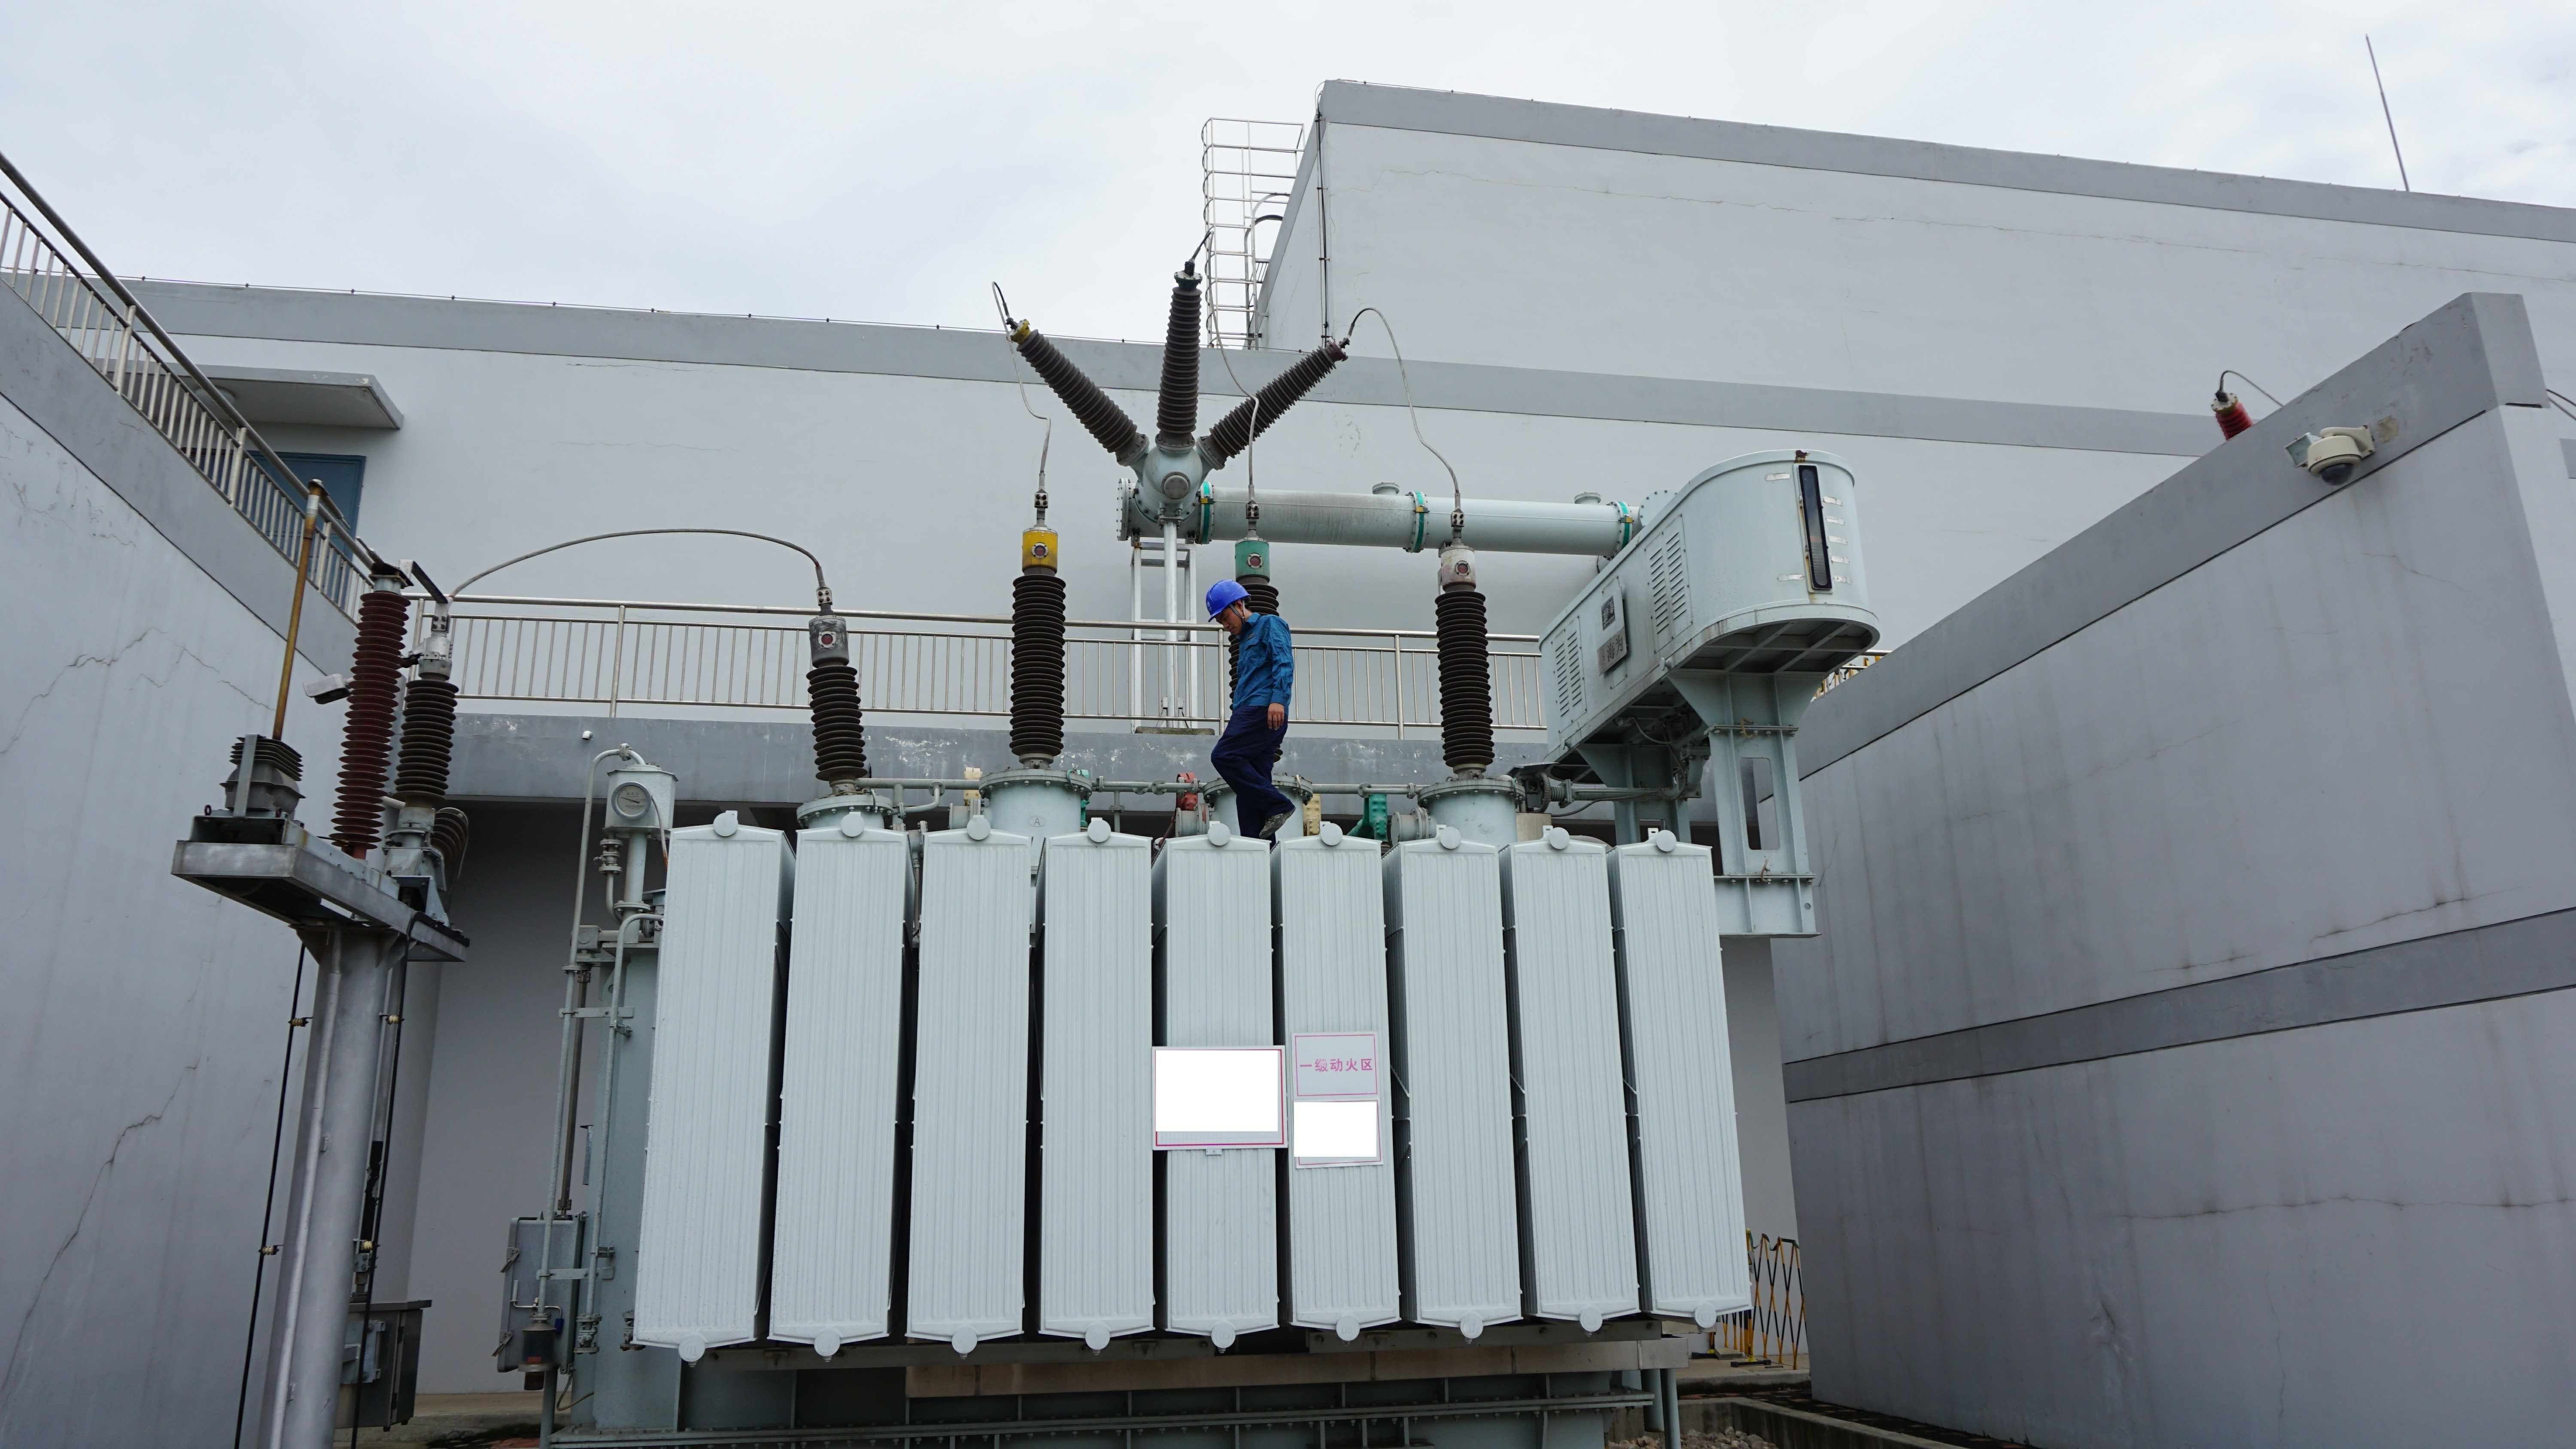hat: (1196, 573, 1267, 637)
